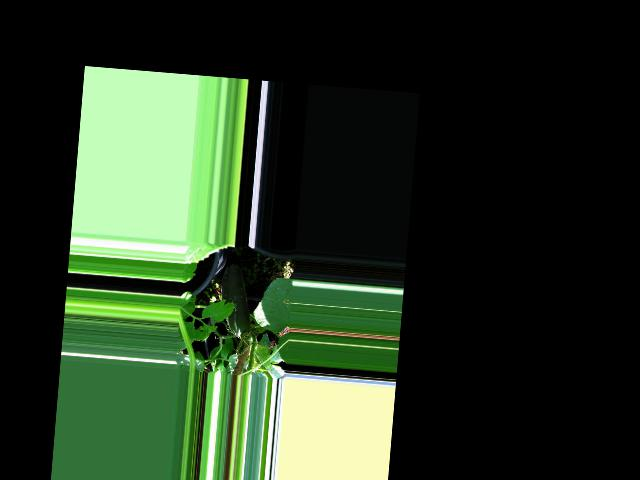cucumber: (217, 263, 255, 338)
